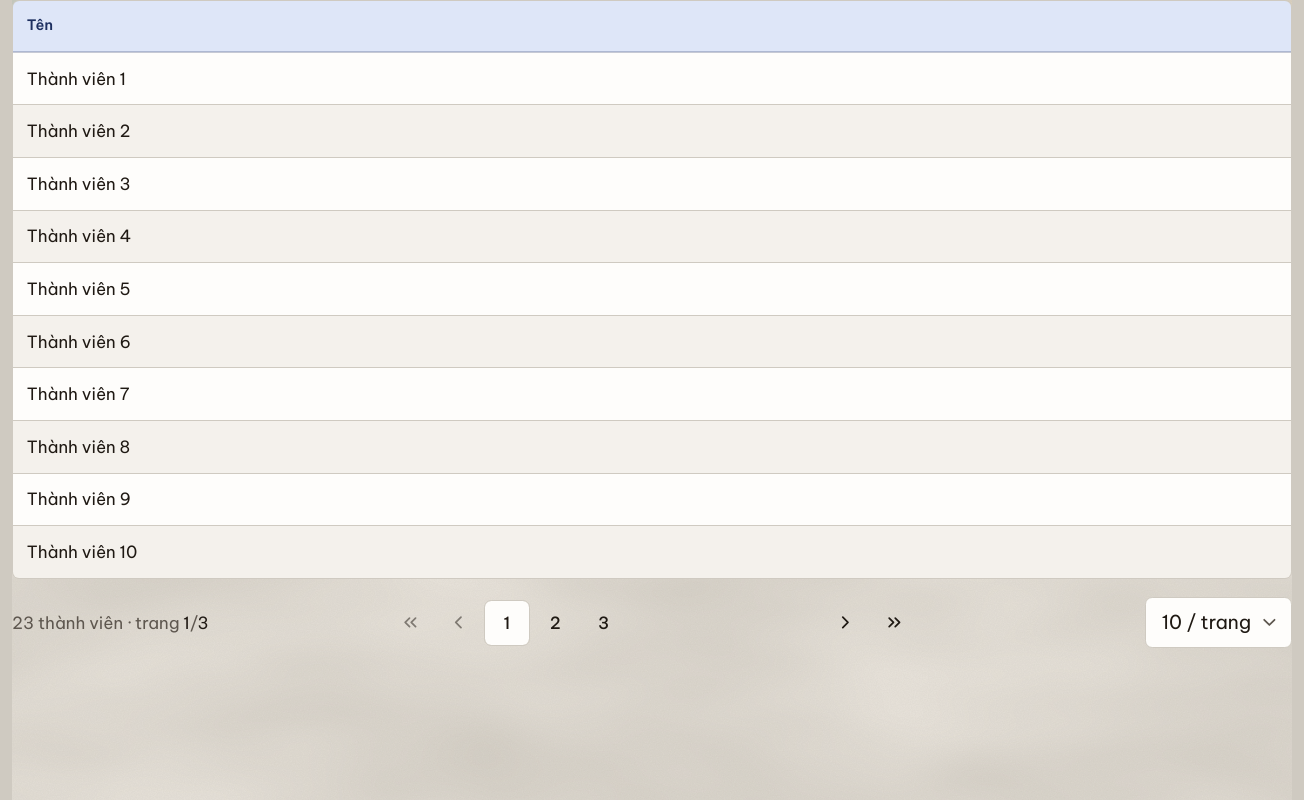
Test: DataTable › đổi trang thì đổi tập hàng, trang cuối chỉ còn phần dư
The width and height of the screenshot is (1304, 800).
Click the button named "Trang sau" at (845, 623), box [835,612,856,633]
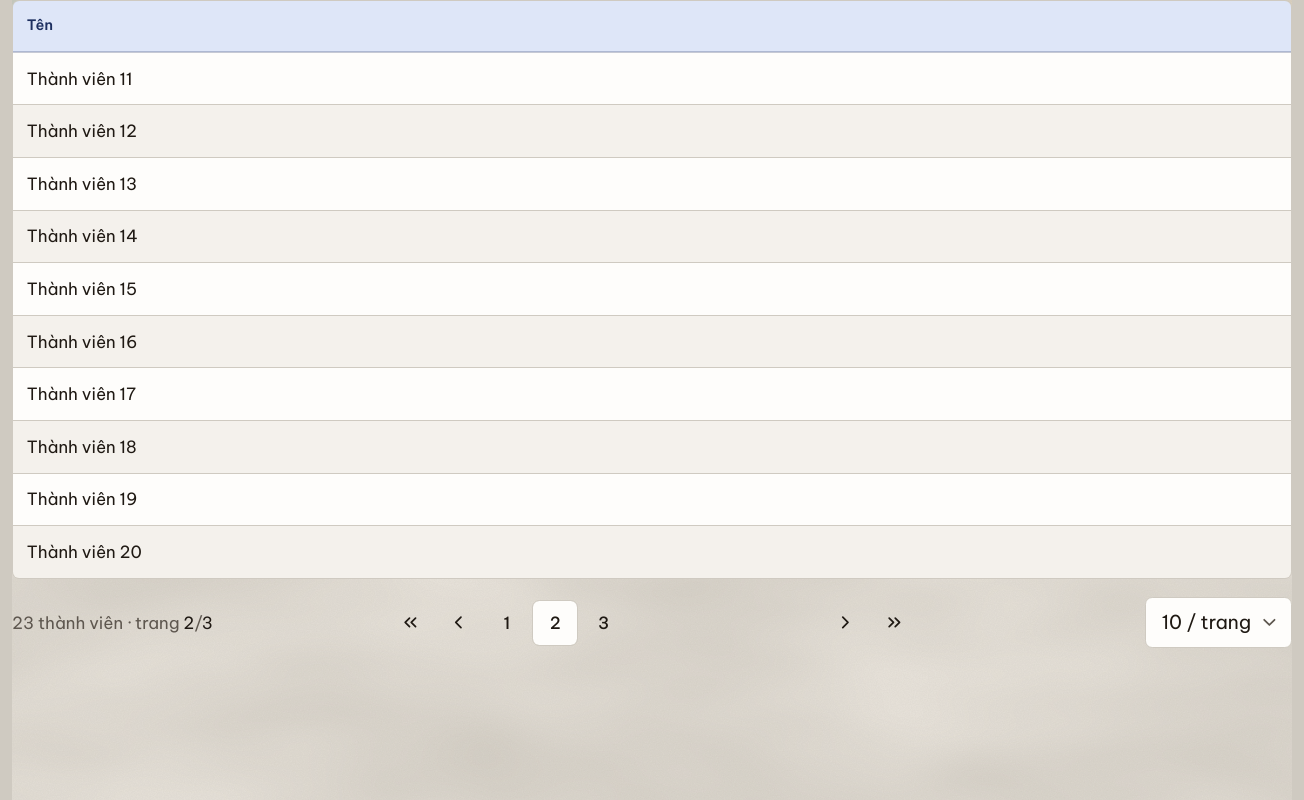
Result: the cell "Thành viên 11" is shown at [13,52,1291,105]
Click the button named "Về trang cuối" at (894, 623), box [884,612,904,633]
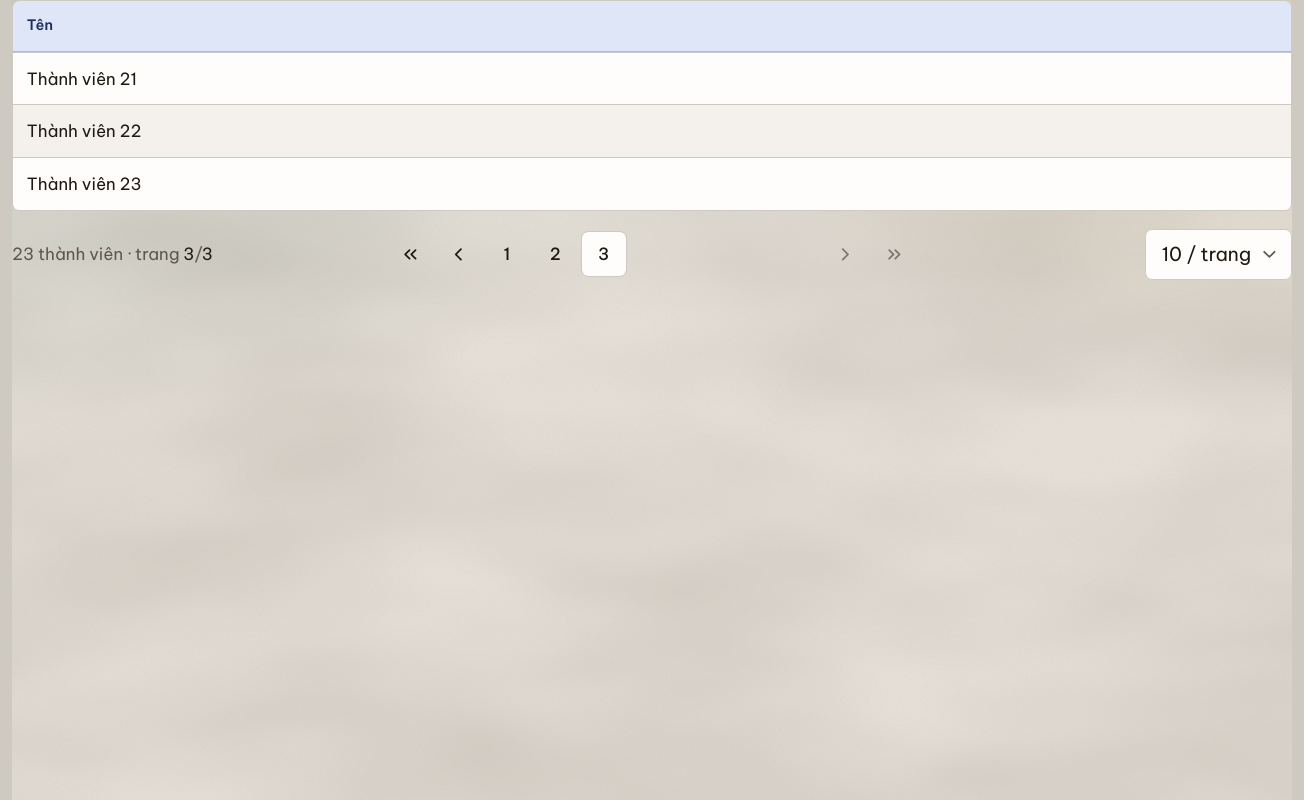
Result: the number of cells is 3 at [13,52,1291,105]; [13,105,1291,157]; [13,157,1291,210]
Result: the cell "Thành viên 21" is shown at [13,52,1291,105]
